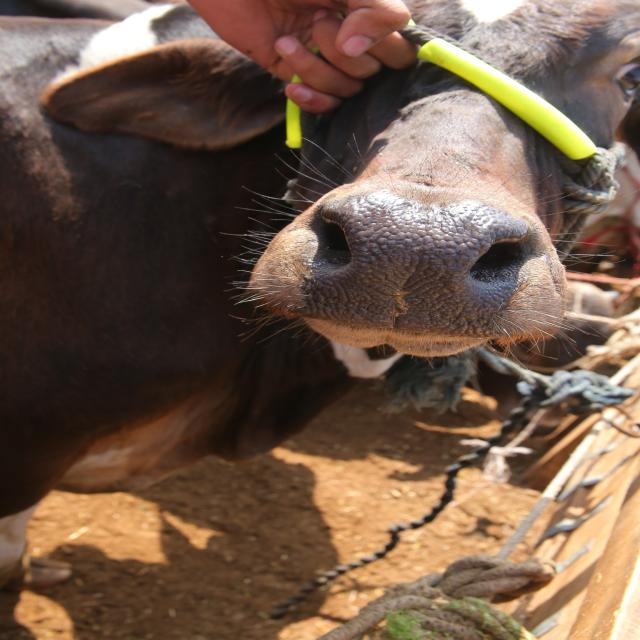muzzles: (308, 184, 536, 344)
